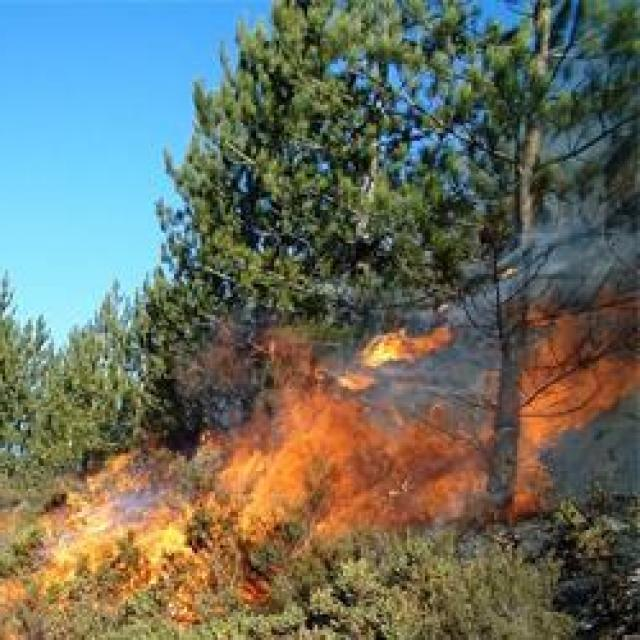fire: (226, 412, 354, 528), (360, 321, 446, 375)
smoke: (433, 202, 609, 344), (94, 482, 162, 526)
